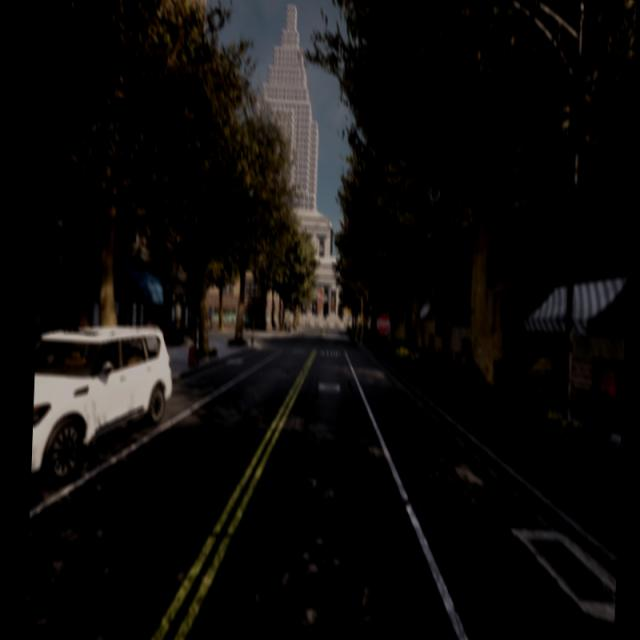stop sign: (374, 310, 392, 336)
